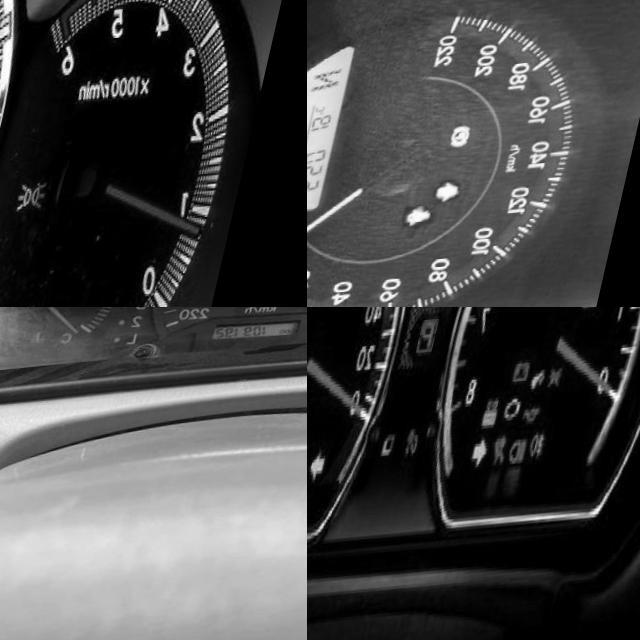Seat Belt: (421, 213, 451, 235)
